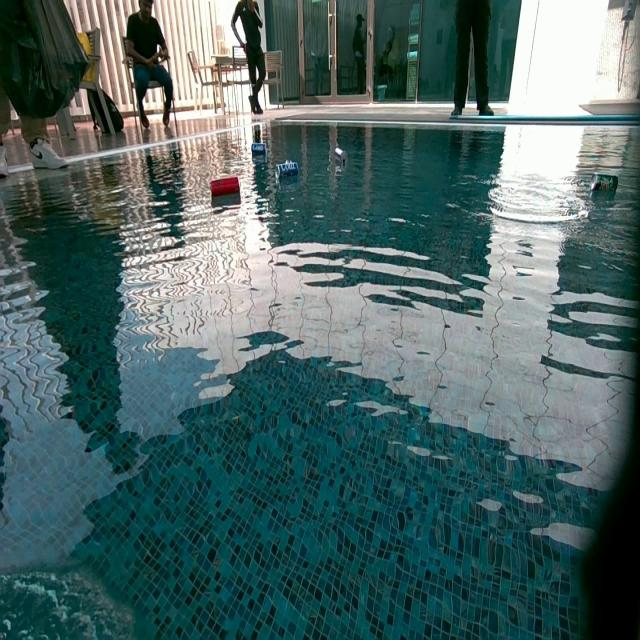Cans: (588, 172, 616, 196), (210, 178, 238, 198), (277, 161, 299, 180), (334, 148, 348, 170), (252, 142, 267, 159)
